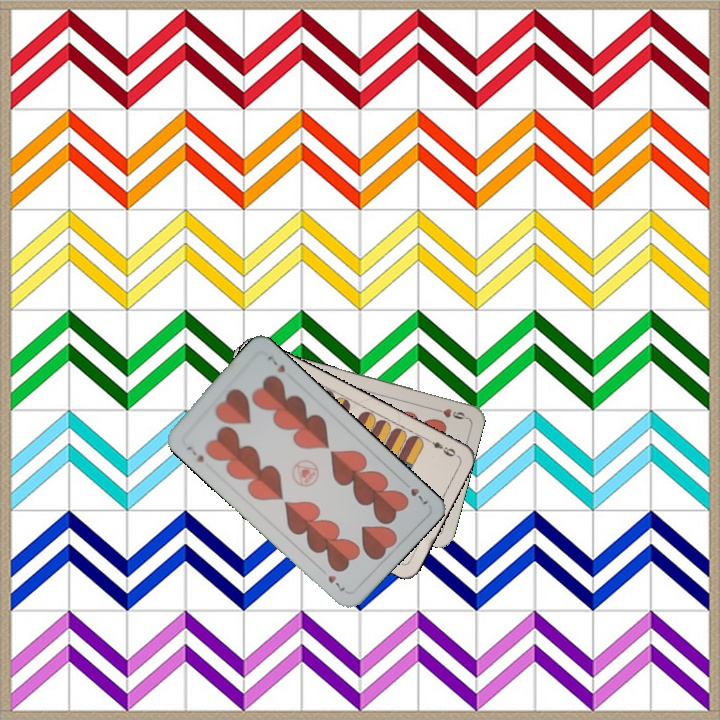E9: (422, 434, 458, 459)
H7: (398, 476, 431, 507), (183, 441, 206, 465)
H9: (429, 404, 469, 422)
